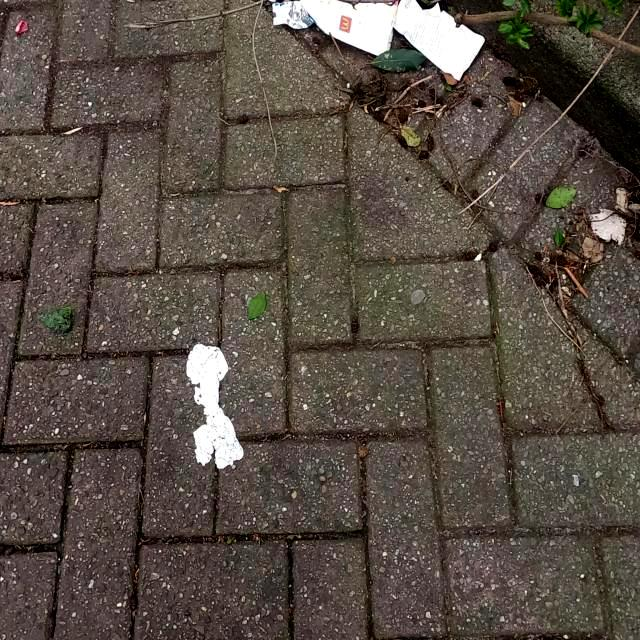Paper: (392, 0, 486, 82), (186, 342, 244, 470), (300, 0, 398, 56), (589, 207, 627, 247)
